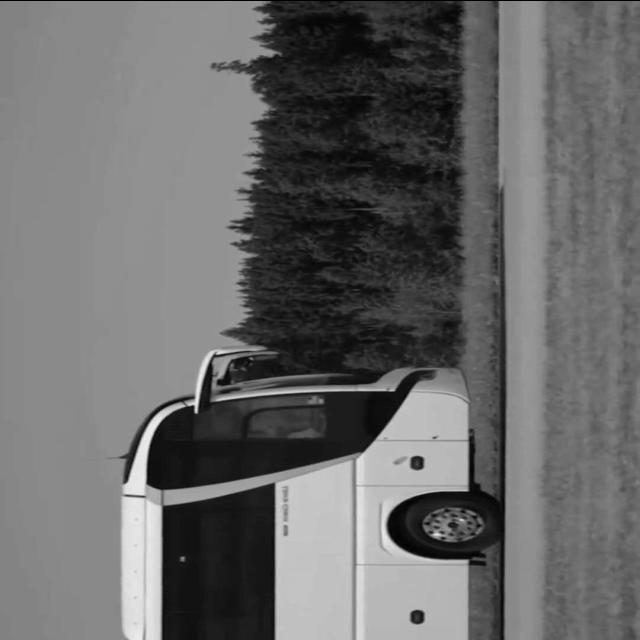bus: (90, 340, 518, 640)
